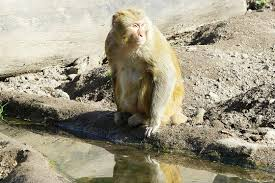monkey: (82, 5, 192, 139)
